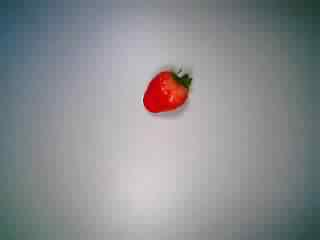strawberry: (132, 63, 198, 125)
